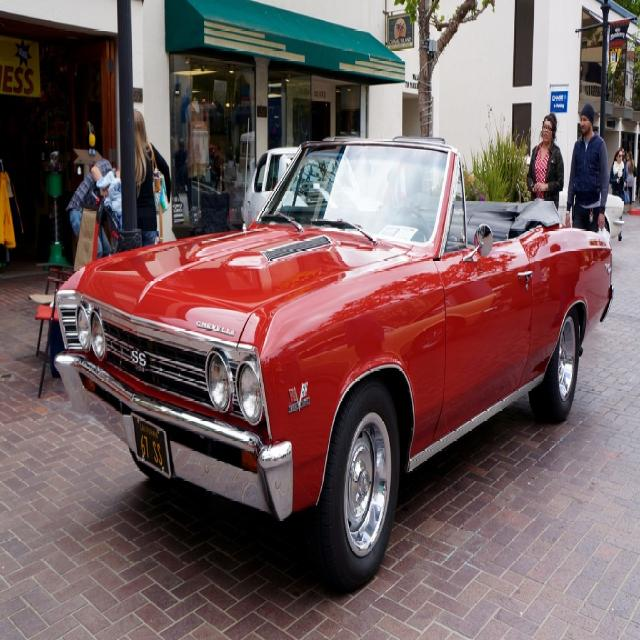car: (53, 117, 613, 589)
